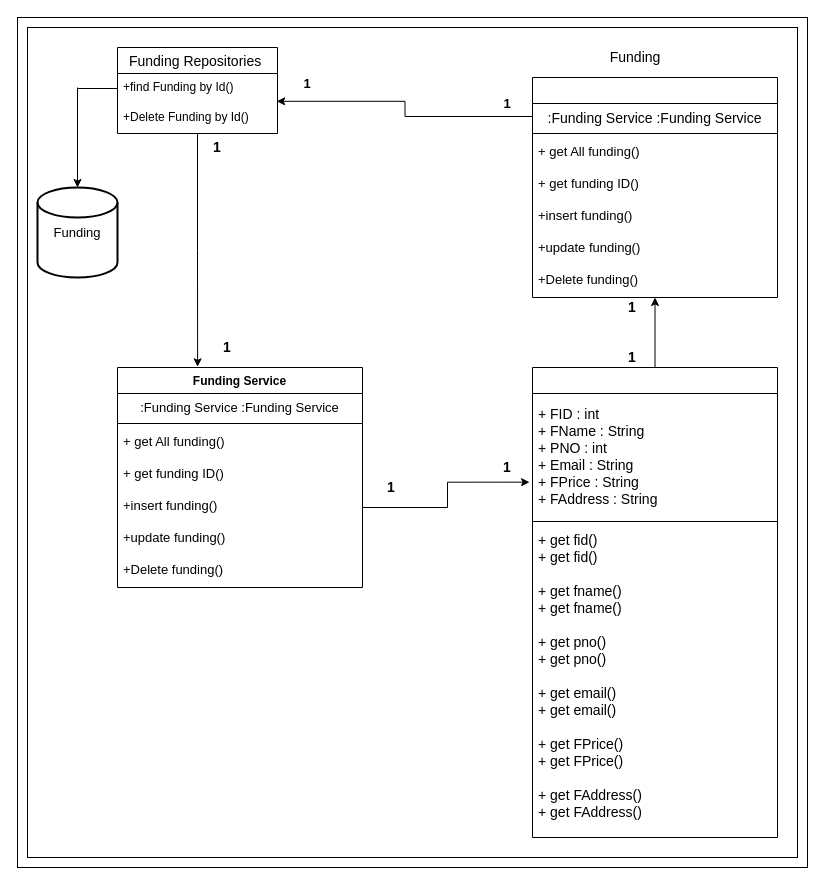
The diagram is 825 pixels wide and 885 high, and some of its shapes have lost their labels. The shapes that lost their labels are listed below. From the top down, each one's box as (x1, y1, x2, y2) in pixels, then its label:
(532, 76, 778, 298): Funding controller Class
(532, 366, 778, 838): Funding Model Class
